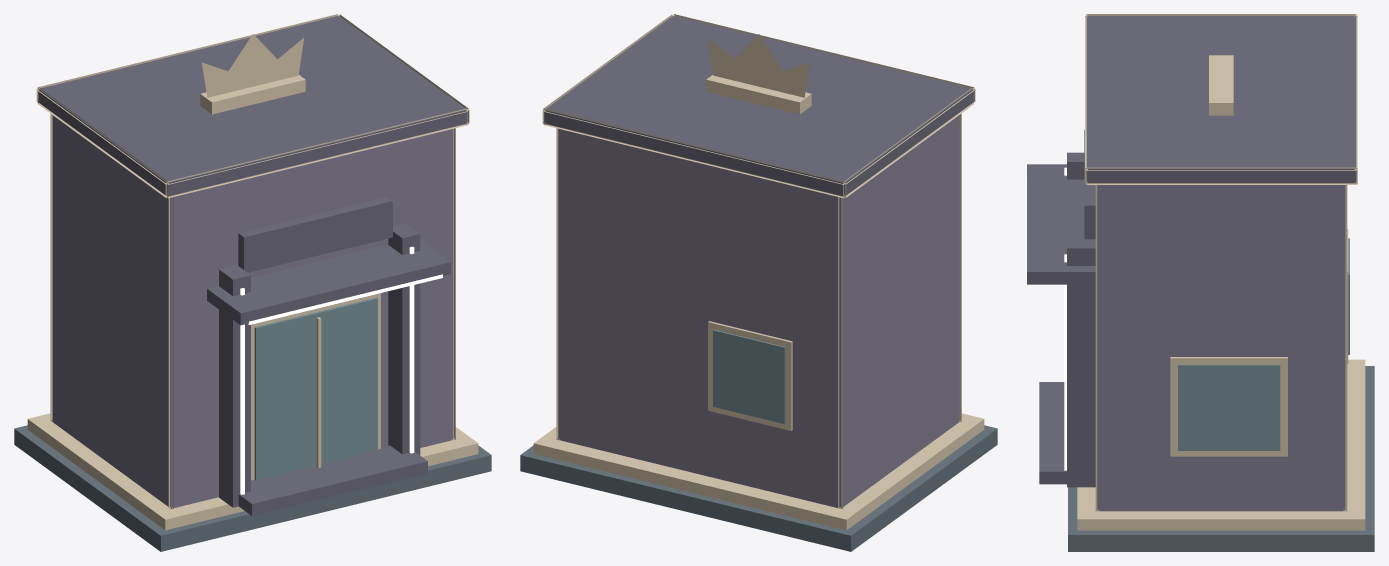
File: glb-host.glb
The picture shows the model from 3 angles, left to right: view 1: azimuth 30°, elevation 25°; view 2: azimuth 150°, elevation 25°; view 3: azimuth 270°, elevation 25°; orthographic projection. The views are drawn at different scales.
Parts seen in each view (by area): view 1: 05 Host Club; view 2: 05 Host Club; view 3: 05 Host Club.
Part boxes in pixels (x1,y1,x2,y2): 05 Host Club: [14, 14, 491, 551]; 05 Host Club: [520, 14, 997, 551]; 05 Host Club: [1026, 14, 1374, 551].
Bounding box in the file's own units: 2.58 × 3.16 × 2.25.
